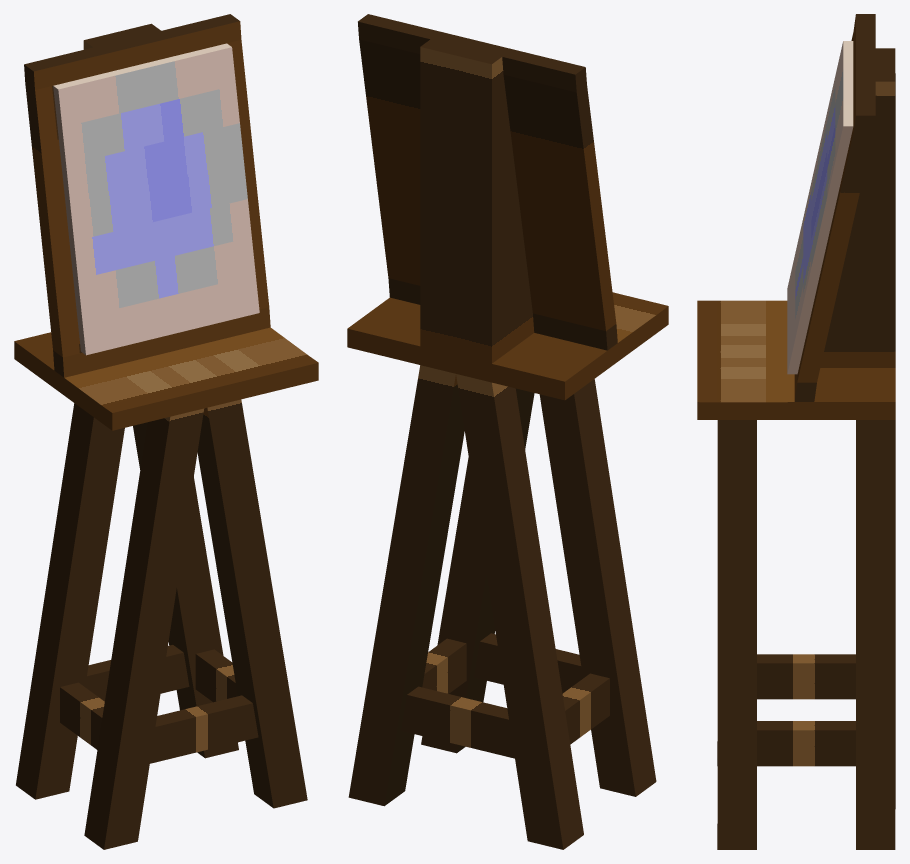
Rendered from easel_837x01.gltf.
3 views of the same model, side by side, from view 1: azimuth 30°, elevation 25°; view 2: azimuth 150°, elevation 25°; view 3: azimuth 270°, elevation 25° (orthographic). The views are drawn at different scales.
Parts seen in each view (by area): view 1: easel_837x01; view 2: easel_837x01; view 3: easel_837x01.
Part boxes in pixels (x1=…): easel_837x01: x1=14, y1=14, x2=318, y2=849; easel_837x01: x1=347, y1=14, x2=668, y2=849; easel_837x01: x1=697, y1=14, x2=895, y2=849.
Size of the model in its own units: 1.22 by 4.1 by 1.
1 material, 1 textured.
